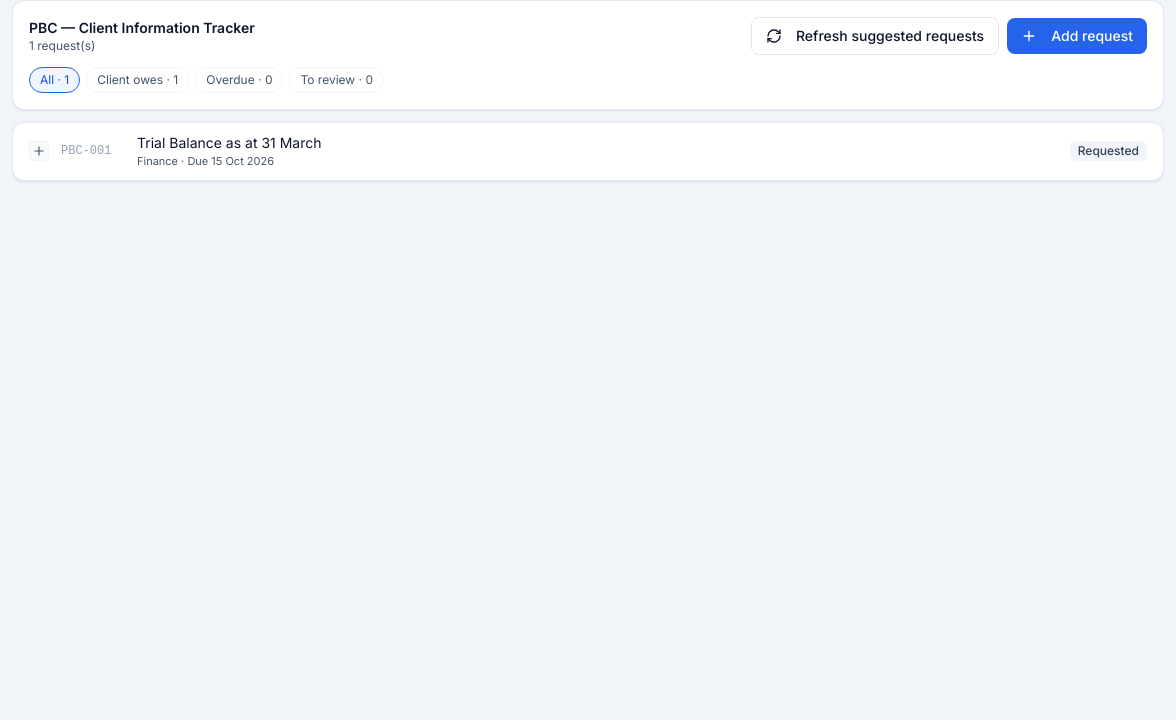
it: PBC tracker inline panels › opens the add-request form inline under its row
Click the button "Add request" at coordinates (1077, 36), box [1007,18,1147,54]
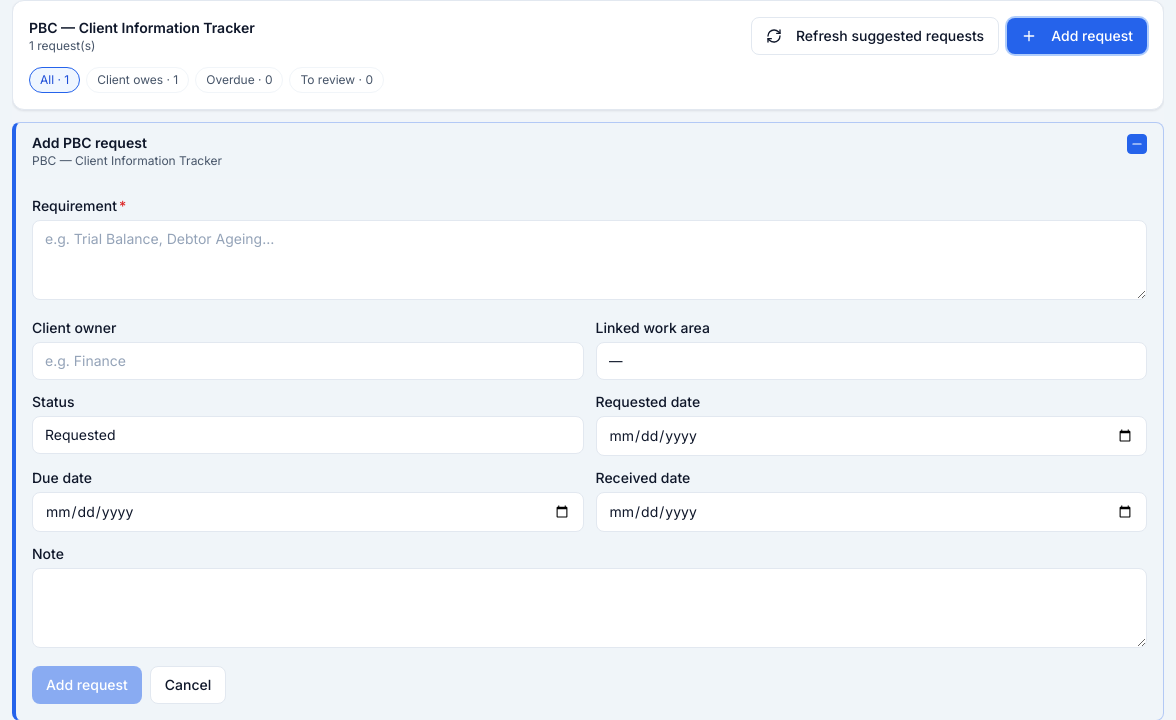
Now the element "Add PBC request" is shown
